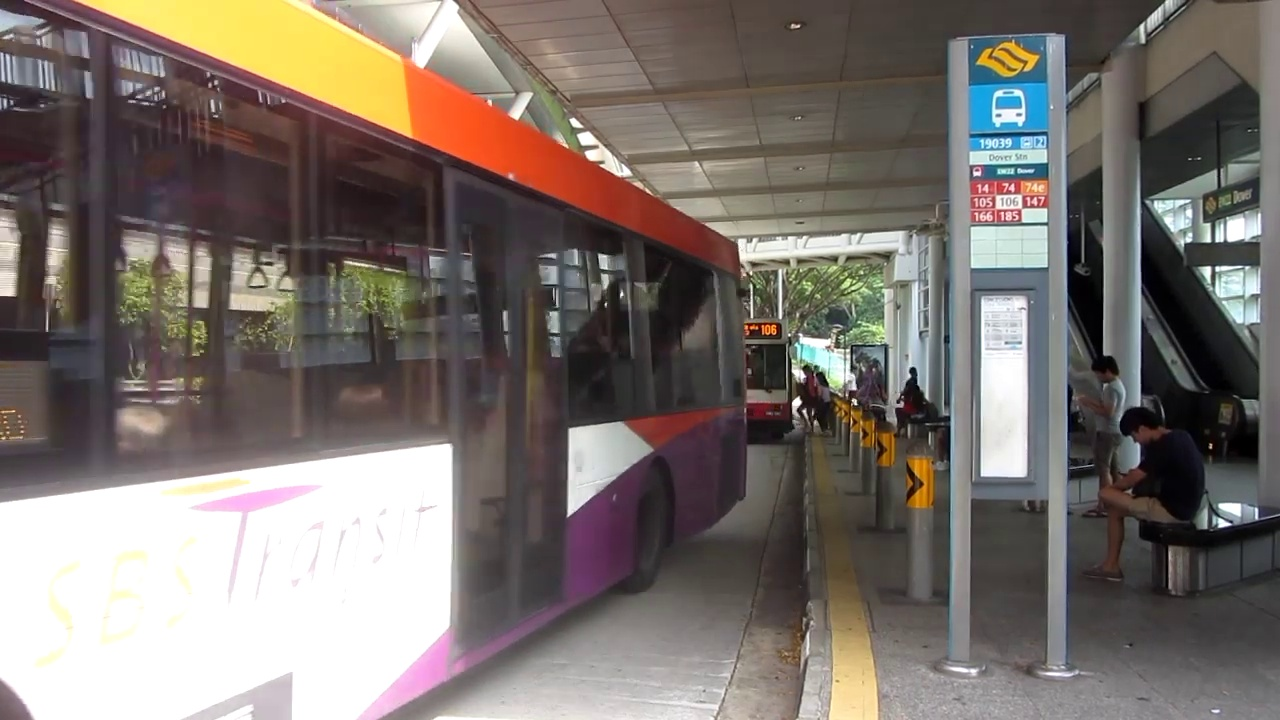bus panel: (744, 322, 784, 341)
